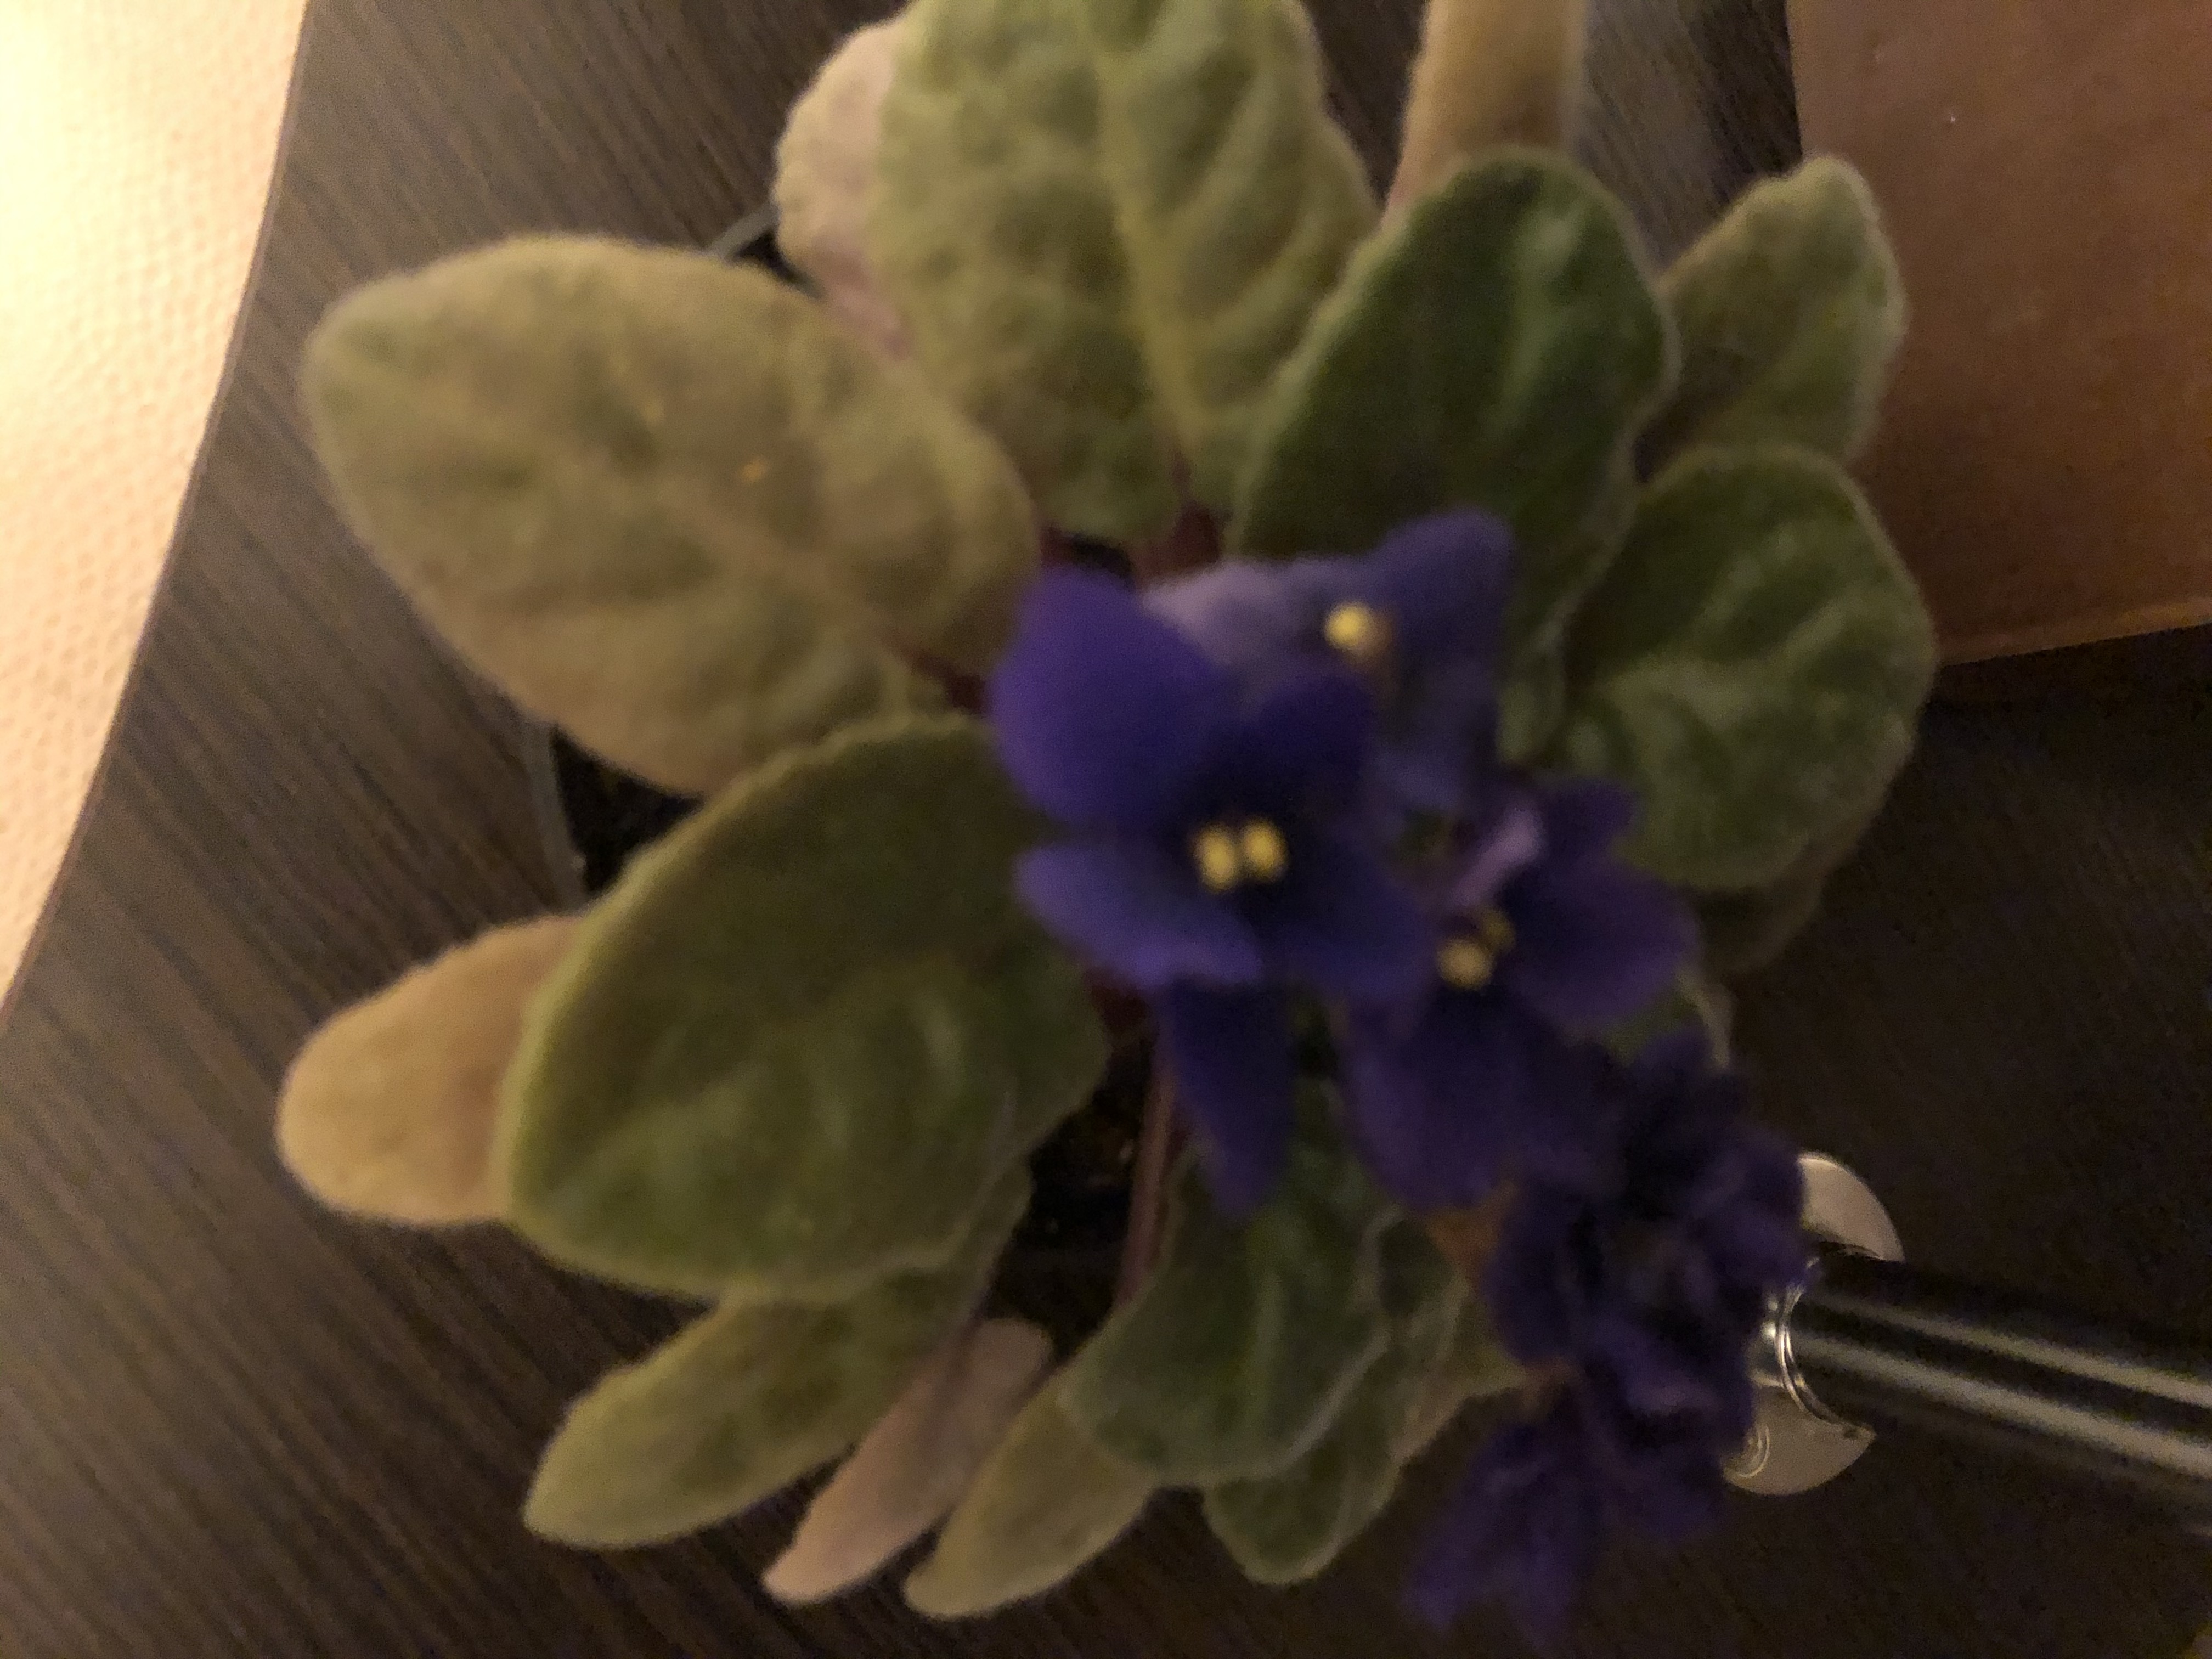ignore: (634, 117, 1820, 1575)
